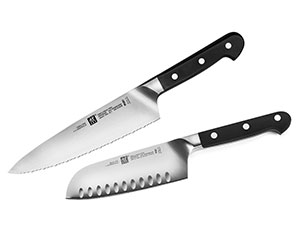knife: (6, 31, 246, 176), (66, 111, 292, 200)
